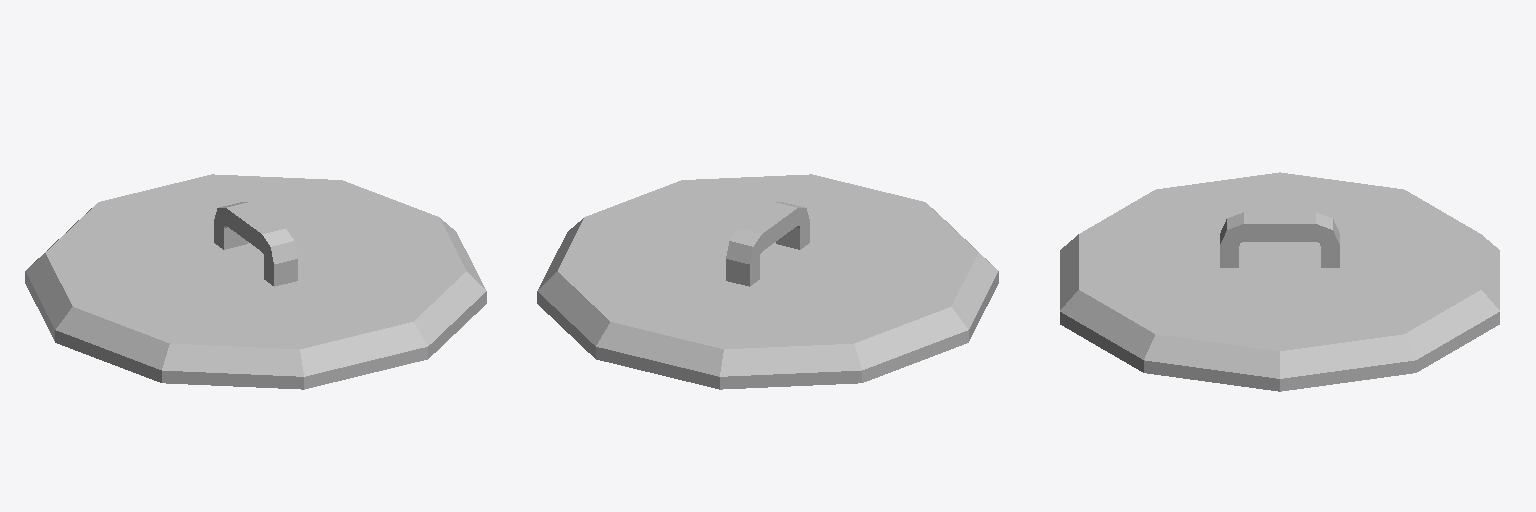
Rendered from pot-stew-lid.obj.
3 views of the same model, side by side, from view 1: azimuth 30°, elevation 25°; view 2: azimuth 150°, elevation 25°; view 3: azimuth 270°, elevation 25° (orthographic).
Visible parts, largest first — view 1: pot-stew-lid, (%ignore); view 2: pot-stew-lid, (%ignore); view 3: pot-stew-lid, (%ignore).
Boxes of the visible parts, x1=… form: pot-stew-lid: x1=25, y1=174, x2=486, y2=389; (%ignore): x1=86, y1=191, x2=425, y2=331; pot-stew-lid: x1=537, y1=174, x2=998, y2=389; (%ignore): x1=598, y1=191, x2=937, y2=331; pot-stew-lid: x1=1060, y1=172, x2=1499, y2=391; (%ignore): x1=1118, y1=190, x2=1441, y2=333.
Bounding box in the file's own units: 0.6574 × 0.1184 × 0.6253.